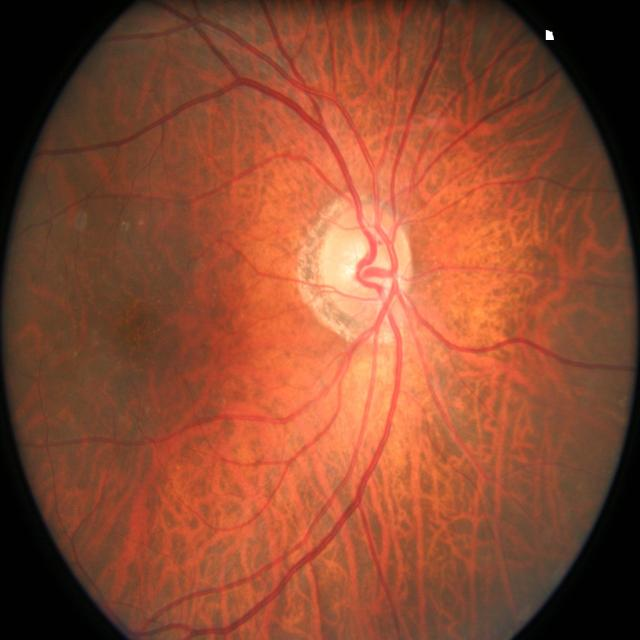OC: (341, 238, 392, 292)
OD: (322, 205, 412, 320)
